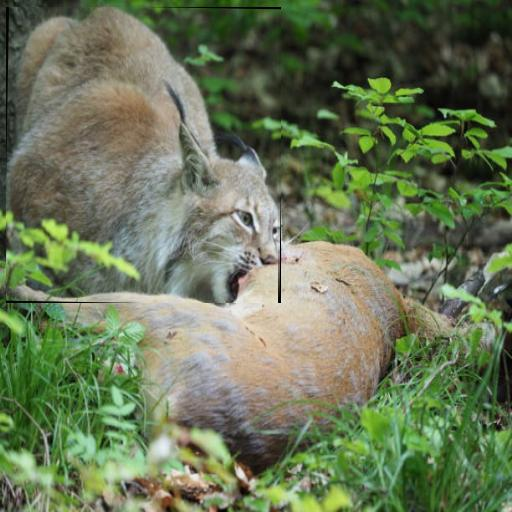lynx: (7, 7, 279, 303)
